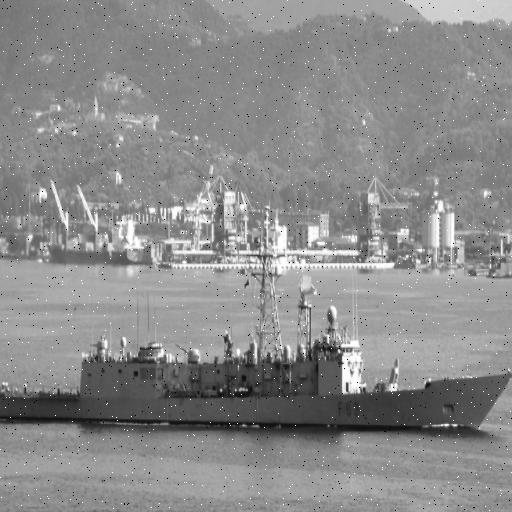Fragata: (1, 211, 512, 440)
